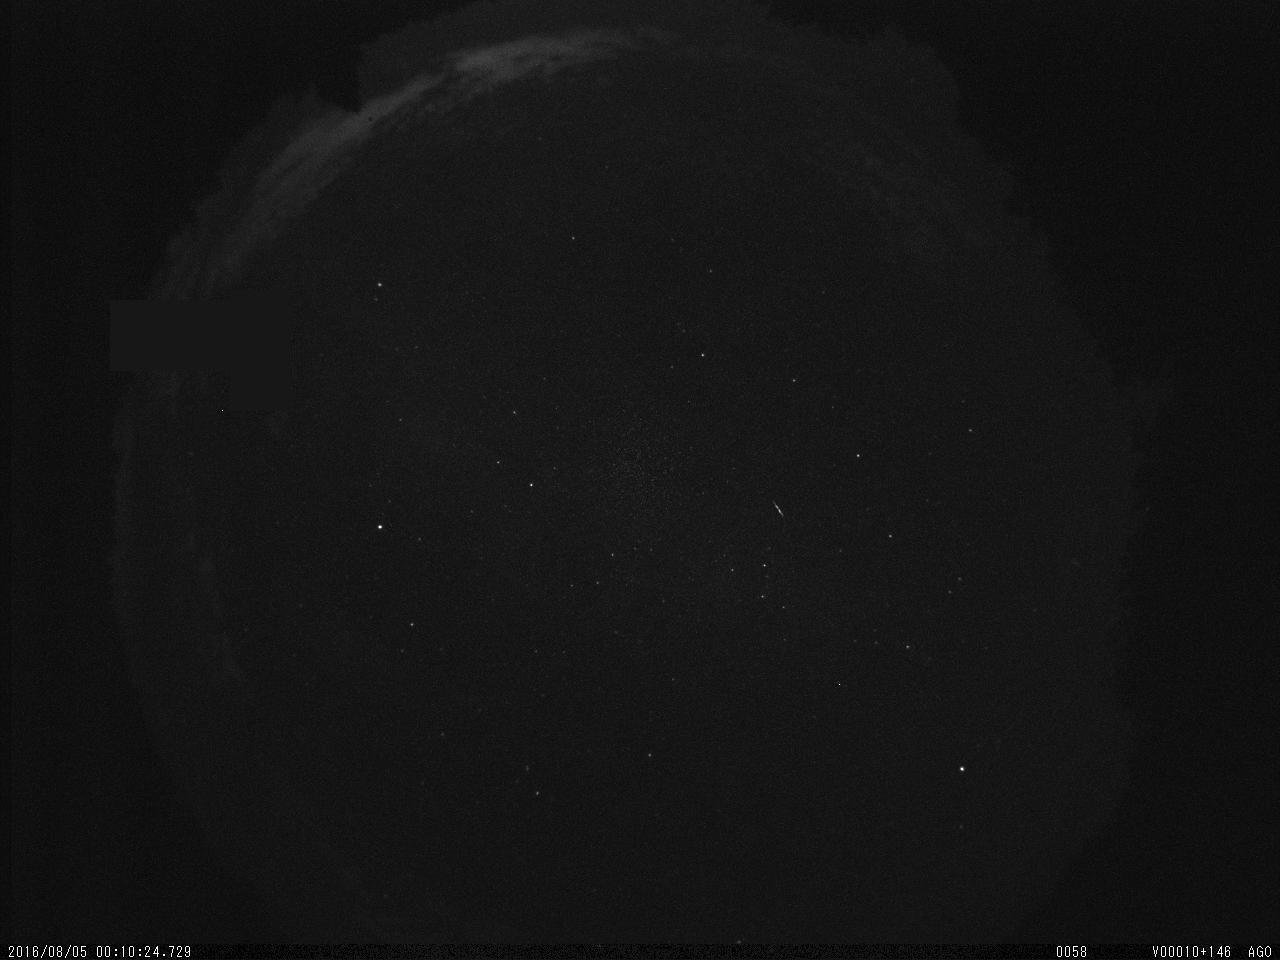meteor: (764, 495, 793, 523)
